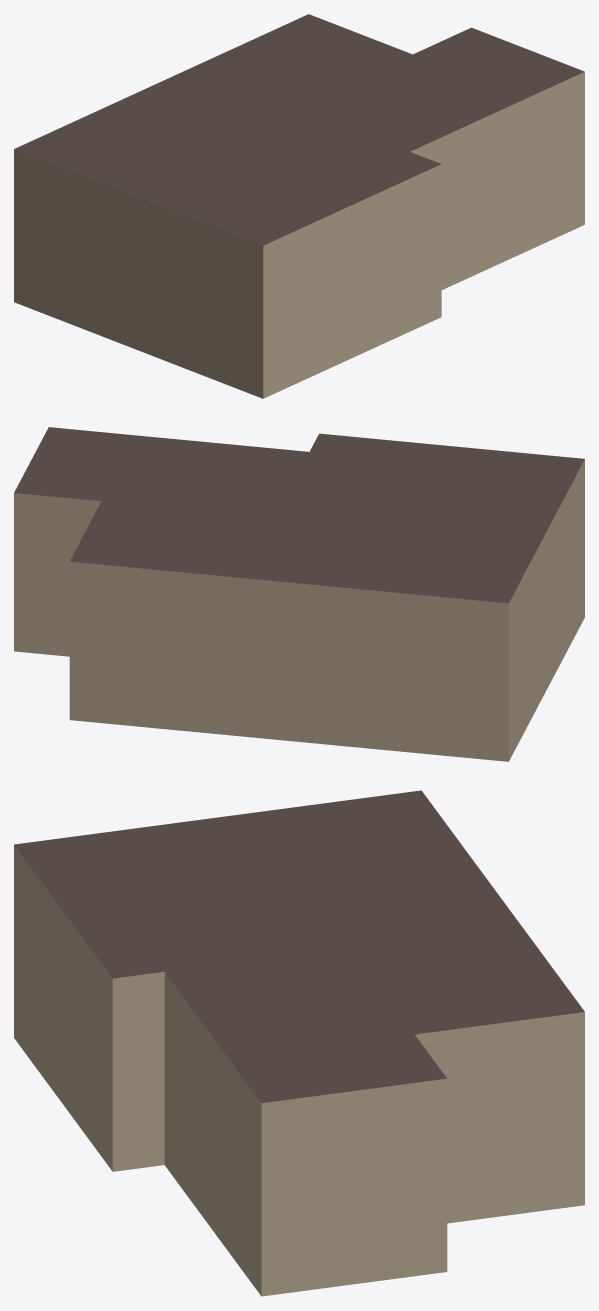
3 views of the same model, one above another, from view 1: azimuth 30°, elevation 25°; view 2: azimuth 150°, elevation 25°; view 3: azimuth 270°, elevation 25° (orthographic). The views are drawn at different scales.
Visible parts, largest first — view 1: HP-w299011349; view 2: HP-w299011349; view 3: HP-w299011349.
Boxes of the visible parts, left/top/right/bottom form: HP-w299011349: left=14, top=14, right=584, bottom=398; HP-w299011349: left=14, top=427, right=584, bottom=761; HP-w299011349: left=14, top=790, right=584, bottom=1296.
Bounding box in the file's own units: 31.23 × 9 × 24.09.
